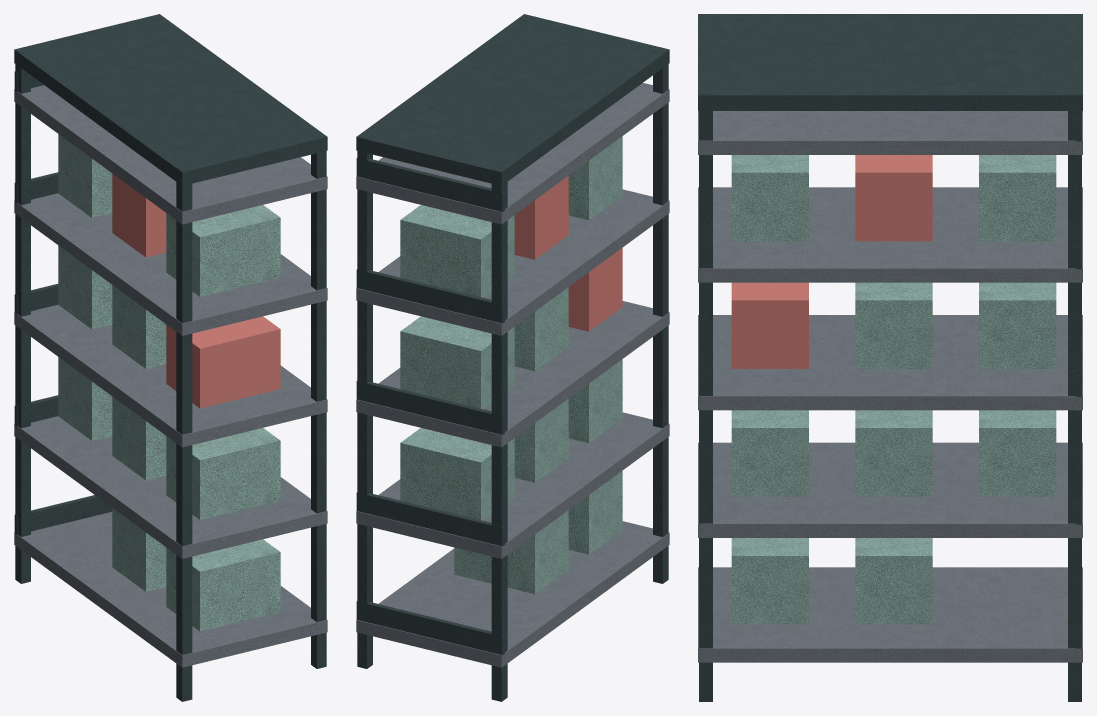
Rendered from Shop_Shelf.glb.
3 views of the same model, side by side, from view 1: azimuth 30°, elevation 25°; view 2: azimuth 150°, elevation 25°; view 3: azimuth 270°, elevation 25° (orthographic). The views are drawn at different scales.
Visible parts, largest first — view 1: VIS_steel, VIS_powdercoat, VIS_package, VIS_product_label_red; view 2: VIS_powdercoat, VIS_steel, VIS_package, VIS_product_label_red; view 3: VIS_steel, VIS_package, VIS_powdercoat, VIS_product_label_red.
Boxes of the visible parts, x1=… form: VIS_steel: x1=14, y1=85, x2=327, y2=667; VIS_powdercoat: x1=14, y1=14, x2=327, y2=701; VIS_package: x1=58, y1=134, x2=280, y2=631; VIS_product_label_red: x1=112, y1=173, x2=280, y2=408; VIS_powdercoat: x1=356, y1=14, x2=669, y2=701; VIS_steel: x1=356, y1=83, x2=669, y2=667; VIS_package: x1=400, y1=136, x2=622, y2=594; VIS_product_label_red: x1=514, y1=176, x2=622, y2=331; VIS_steel: x1=698, y1=111, x2=1082, y2=662; VIS_package: x1=731, y1=155, x2=1056, y2=624; VIS_powdercoat: x1=698, y1=14, x2=1082, y2=701; VIS_product_label_red: x1=731, y1=155, x2=932, y2=368.
Size of the model in its own units: 0.56 by 1.95 by 1.12.
Materials: 4 (3 with a texture image).
